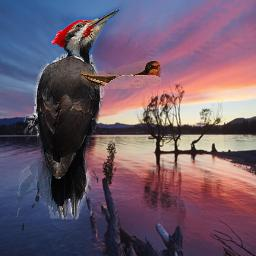Swallow: (81, 60, 161, 89)
Woodpecker: (16, 6, 127, 220)
